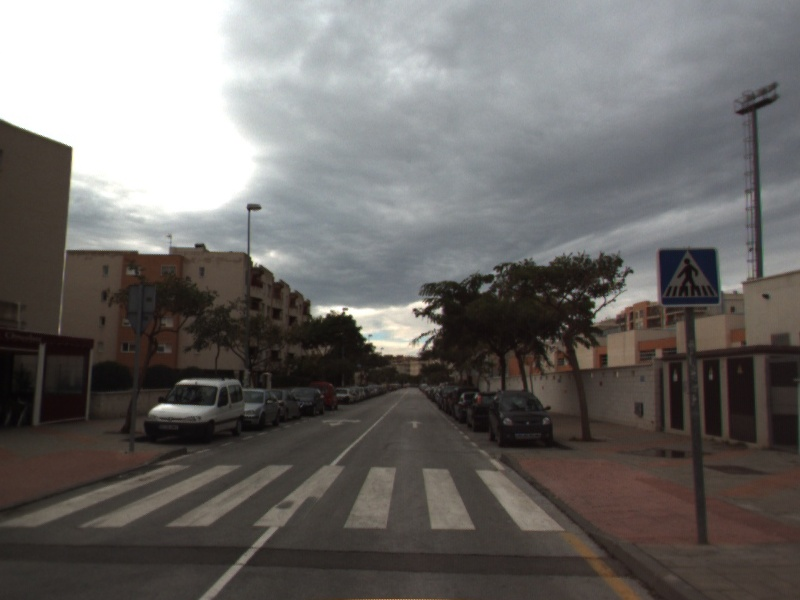STRAIGHT: (405, 418, 426, 430)
